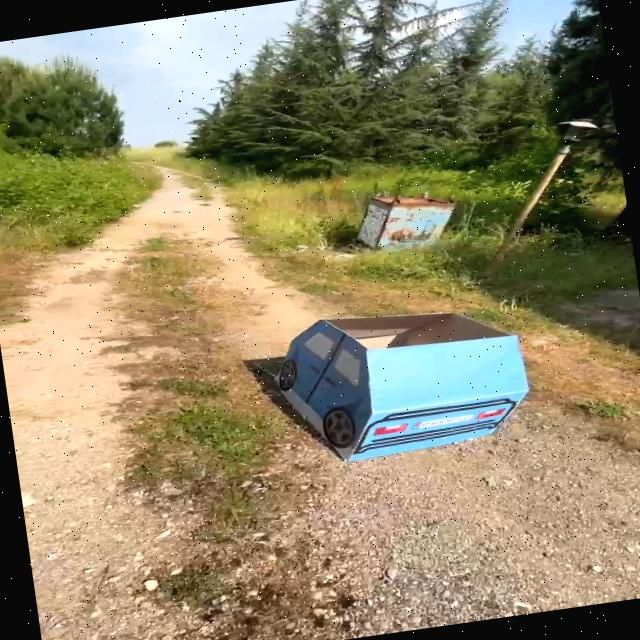blue_car: (232, 272, 570, 506)
